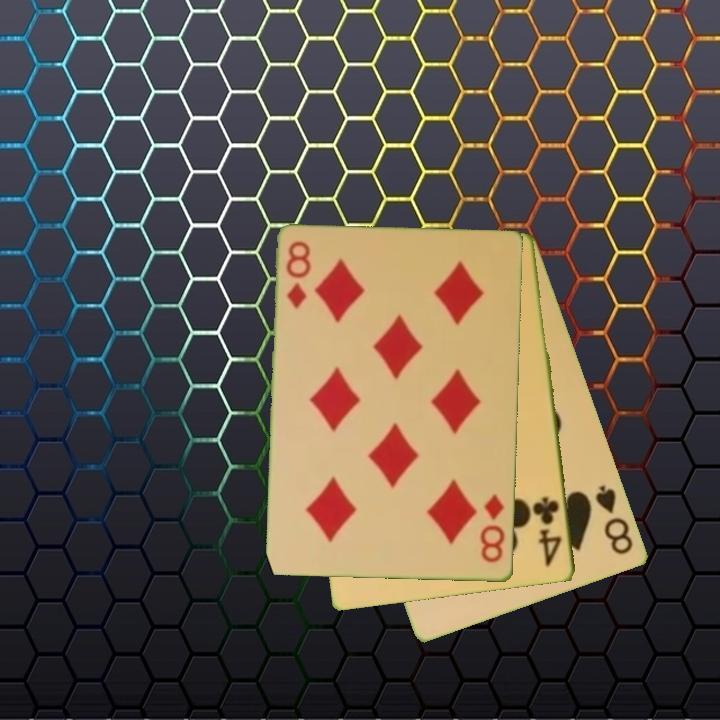4c: (530, 494, 565, 570)
8d: (477, 491, 508, 566), (283, 238, 313, 312)
8s: (592, 482, 637, 558)
